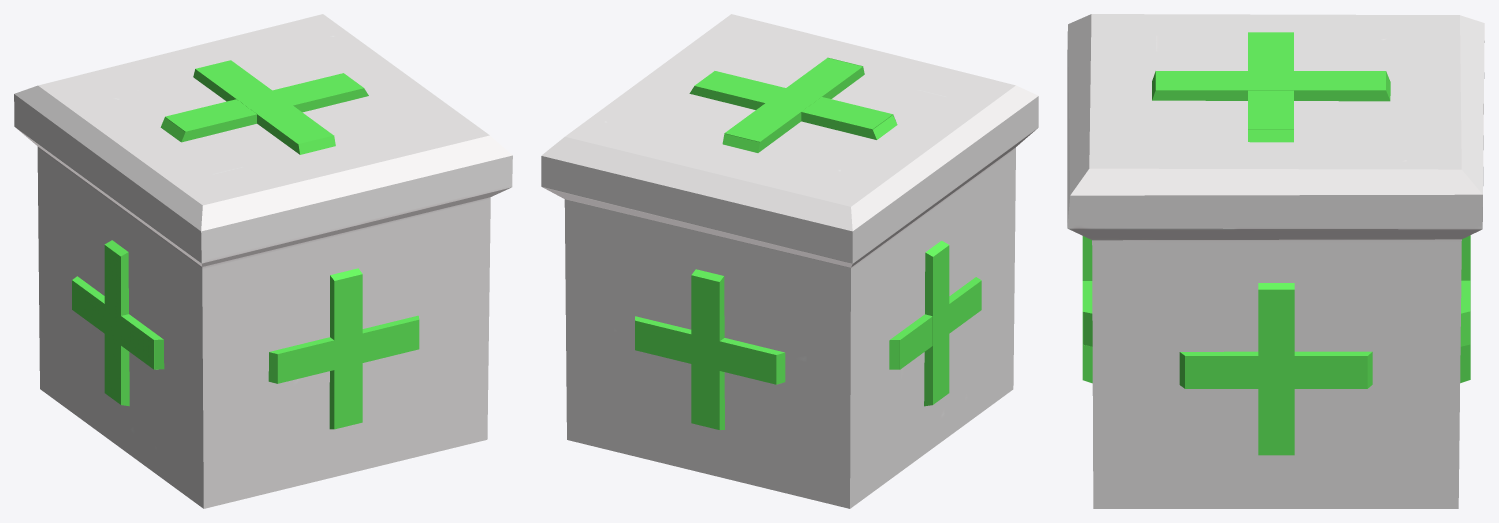
File: heath pick up af.fbx
3 renders of one model, left to right at view 1: azimuth 30°, elevation 25°; view 2: azimuth 150°, elevation 25°; view 3: azimuth 270°, elevation 25°, orthographic. The views are drawn at different scales.
Parts seen in each view (by area): view 1: pCube2, pCube10, pCube9, pCube7; view 2: pCube2, pCube10, pCube8, pCube7; view 3: pCube2, pCube6, pCube10, pCube9, pCube8.
Boxes of the visible parts, x1,y1,x2,y2 form: pCube2: [14, 14, 512, 508]; pCube10: [160, 60, 368, 154]; pCube9: [268, 268, 419, 429]; pCube7: [72, 240, 164, 406]; pCube2: [541, 14, 1038, 508]; pCube10: [689, 57, 897, 152]; pCube8: [635, 269, 785, 430]; pCube7: [889, 240, 981, 406]; pCube2: [1067, 14, 1484, 508]; pCube6: [1179, 283, 1372, 455]; pCube10: [1152, 32, 1390, 142]; pCube9: [1082, 236, 1092, 383]; pCube8: [1460, 235, 1470, 382].
Size of the model in its own units: 33.1 by 31.78 by 34.27.
Materials: 1 (1 with a texture image).
